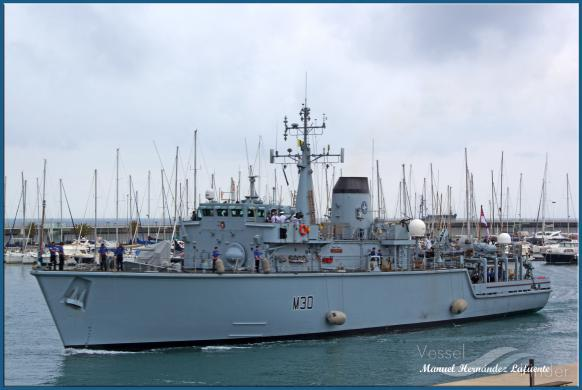OCR: (288, 292, 319, 312)
